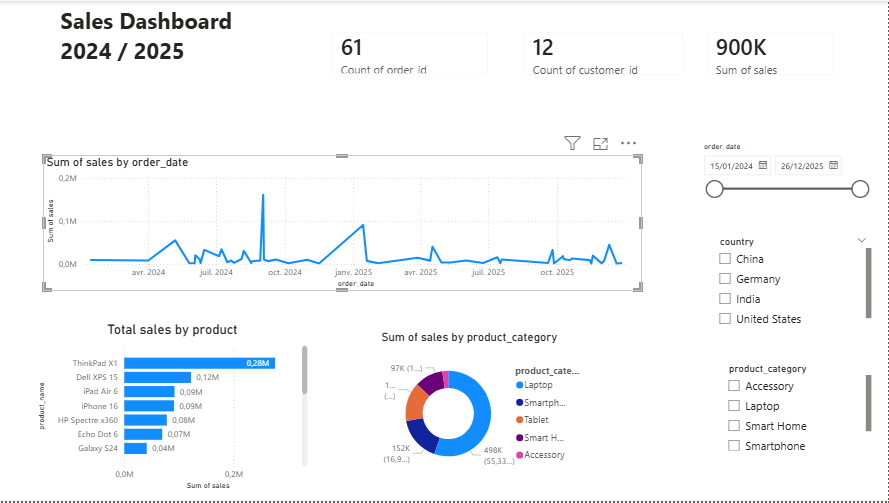

Layout of this report page (visuals, bound fields, positions):
{"tool":"powerbi","page":{"name":"Page 1","canvas":[1280,720],"ordinal":0},"visuals":[{"type":"barChart","title":"Total sales by product","fields":{"Category":["orders.product_name"],"Y":["Sum(orders.sales)"]},"box":[49,460.8,398.9,247.7],"z":0},{"type":"donutChart","fields":{"Y":["Sum(orders.sales)"],"Category":["orders.product_category"]},"box":[544.3,473.8,299.5,221.8],"z":1000},{"type":"cardVisual","fields":{"Data":["CountNonNull(orders.order_id)"]},"box":[460.8,27.4,259.2,95],"z":2000},{"type":"cardVisual","fields":{"Data":["Count(orders.customer_id)"]},"box":[737.3,27.4,263.5,96.5],"z":3000},{"type":"cardVisual","fields":{"Data":["Sum(orders.sales)"]},"box":[1000.8,27.4,216,96.5],"z":4000},{"type":"lineChart","fields":{"Category":["orders.order_date.Variation.Date Hierarchy.Year"],"Y":["Sum(orders.sales)"]},"box":[61.9,221.8,862.6,195.8],"z":5000},{"type":"slicer","fields":{"Values":["customers.country"]},"box":[1023.8,332.6,236.2,141.1],"z":6000},{"type":"slicer","fields":{"Values":["orders.product_category"]},"box":[1036.8,515.5,223.2,136.8],"z":7000},{"type":"slicer","fields":{"Values":["orders.order_date"]},"box":[1000.8,198.7,259.2,99.4],"z":8000},{"type":"textbox","box":[82.1,0,349.9,123.8],"z":9000}]}

Visuals, with their boxes in screenshot pixels (x1, y1, x2, y2), scaled from the page's 1280x720 canvas onto the 889x503 screenshot:
"Total sales by product" barChart: pyautogui.locateOnScreen(34, 322, 311, 495)
donutChart - Sum(orders.sales) x orders.product_category: pyautogui.locateOnScreen(378, 331, 586, 486)
cardVisual - CountNonNull(orders.order_id): pyautogui.locateOnScreen(320, 19, 500, 86)
cardVisual - Count(orders.customer_id): pyautogui.locateOnScreen(512, 19, 695, 87)
cardVisual - Sum(orders.sales): pyautogui.locateOnScreen(695, 19, 845, 87)
lineChart - orders.order_date.Variation.Date Hierarchy.Year x Sum(orders.sales): pyautogui.locateOnScreen(43, 155, 642, 292)
slicer - customers.country: pyautogui.locateOnScreen(711, 232, 875, 331)
slicer - orders.product_category: pyautogui.locateOnScreen(720, 360, 875, 456)
slicer - orders.order_date: pyautogui.locateOnScreen(695, 139, 875, 208)
textbox: pyautogui.locateOnScreen(57, 0, 300, 86)
